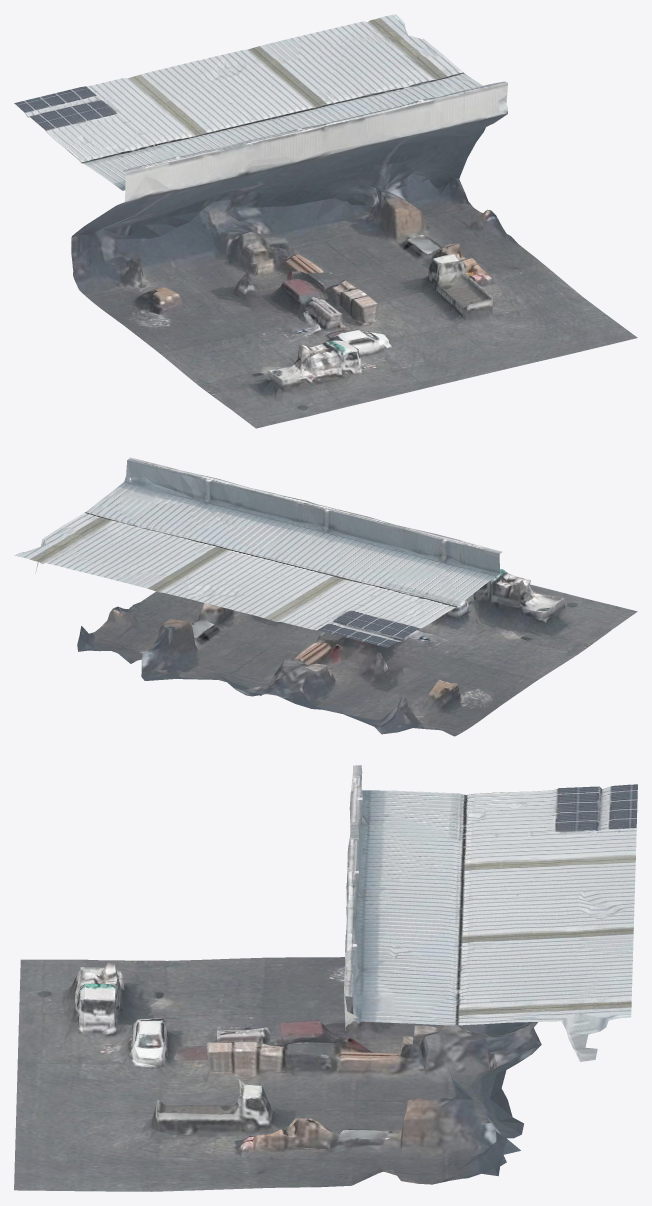
Rendered from Tile_+007_+008_L20_0uuuu32.glb.
3 views of the same model, one above another, from view 1: azimuth 30°, elevation 25°; view 2: azimuth 150°, elevation 25°; view 3: azimuth 270°, elevation 25° (orthographic). The views are drawn at different scales.
Visible parts, largest first — view 1: rtc; view 2: rtc; view 3: rtc.
Boxes of the visible parts, left/top/right/bottom form: rtc: left=14, top=14, right=637, bottom=428; rtc: left=14, top=457, right=637, bottom=736; rtc: left=14, top=765, right=637, bottom=1191.
Size of the model in its own units: 28.78 by 11.4 by 32.41.
3 materials, 3 textured.
